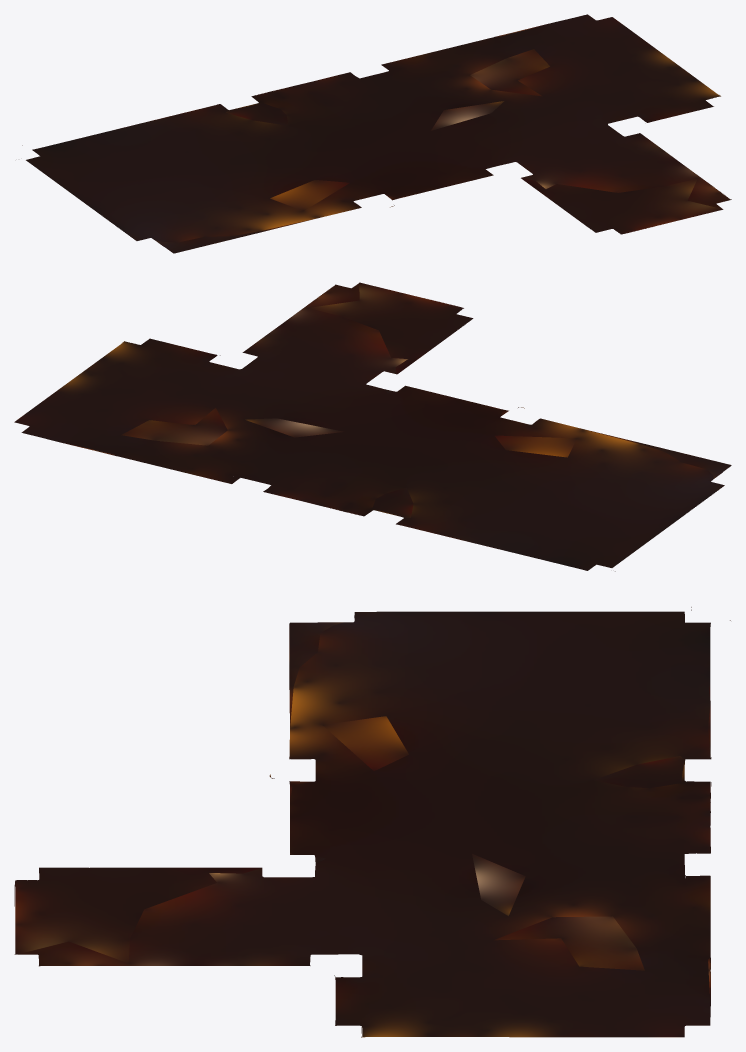
Rendered from HallWay3Way_Floor.fbx.
3 renders of one model, top to bottom at view 1: azimuth 30°, elevation 25°; view 2: azimuth 150°, elevation 25°; view 3: azimuth 270°, elevation 25°, orthographic. The views are drawn at different scales.
Visible parts, largest first — view 1: HallWay3Way_Floor; view 2: HallWay3Way_Floor; view 3: HallWay3Way_Floor.
Part boxes in pixels (box(x1,y1,x2,y2)): HallWay3Way_Floor: box(22, 14, 731, 253); HallWay3Way_Floor: box(14, 282, 731, 571); HallWay3Way_Floor: box(14, 607, 730, 1037).
Bounding box in the file's own units: 11.4 × 1.3e-06 × 7.99.
1 material, 1 textured.
